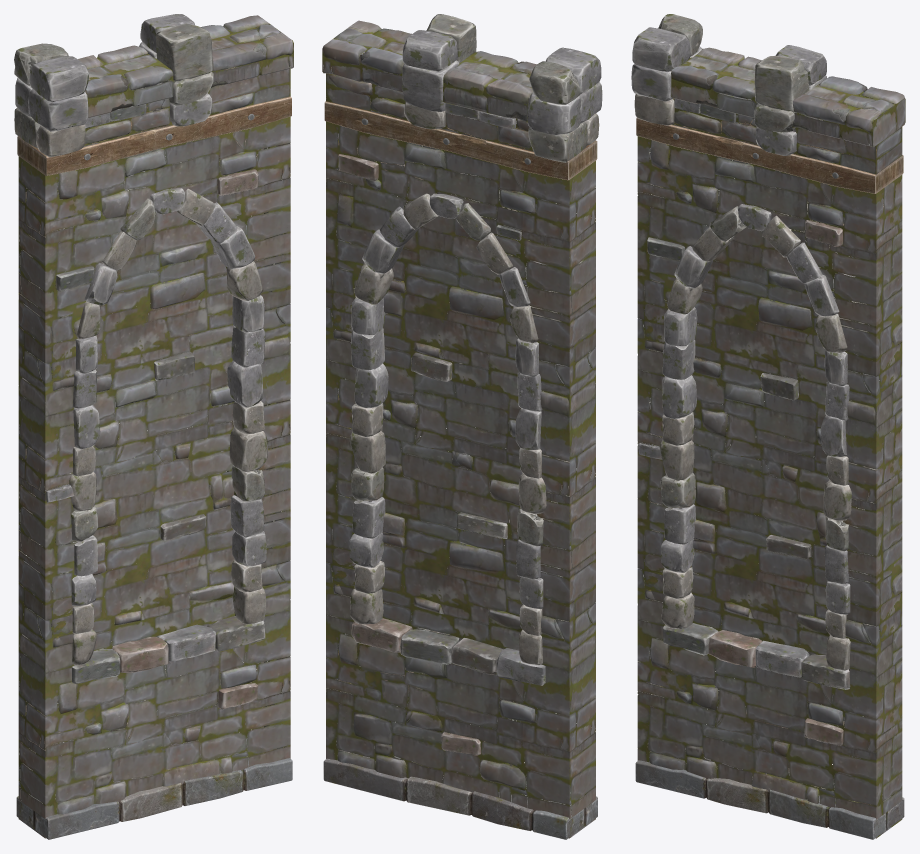
3 renders of one model, left to right at view 1: azimuth 30°, elevation 25°; view 2: azimuth 150°, elevation 25°; view 3: azimuth 330°, elevation 25°, orthographic. The views are drawn at different scales.
Visible parts, largest first — view 1: SM_Castle_Wall_4x12_01_v2_LOD0; view 2: SM_Castle_Wall_4x12_01_v2_LOD0; view 3: SM_Castle_Wall_4x12_01_v2_LOD0.
Boxes of the visible parts, x1,y1,x2,y2 form: SM_Castle_Wall_4x12_01_v2_LOD0: (14, 14, 293, 839); SM_Castle_Wall_4x12_01_v2_LOD0: (322, 14, 602, 839); SM_Castle_Wall_4x12_01_v2_LOD0: (631, 14, 905, 839).
Size of the model in its own units: 4.03 by 12 by 1.09.
Materials: 6 (6 with a texture image).
